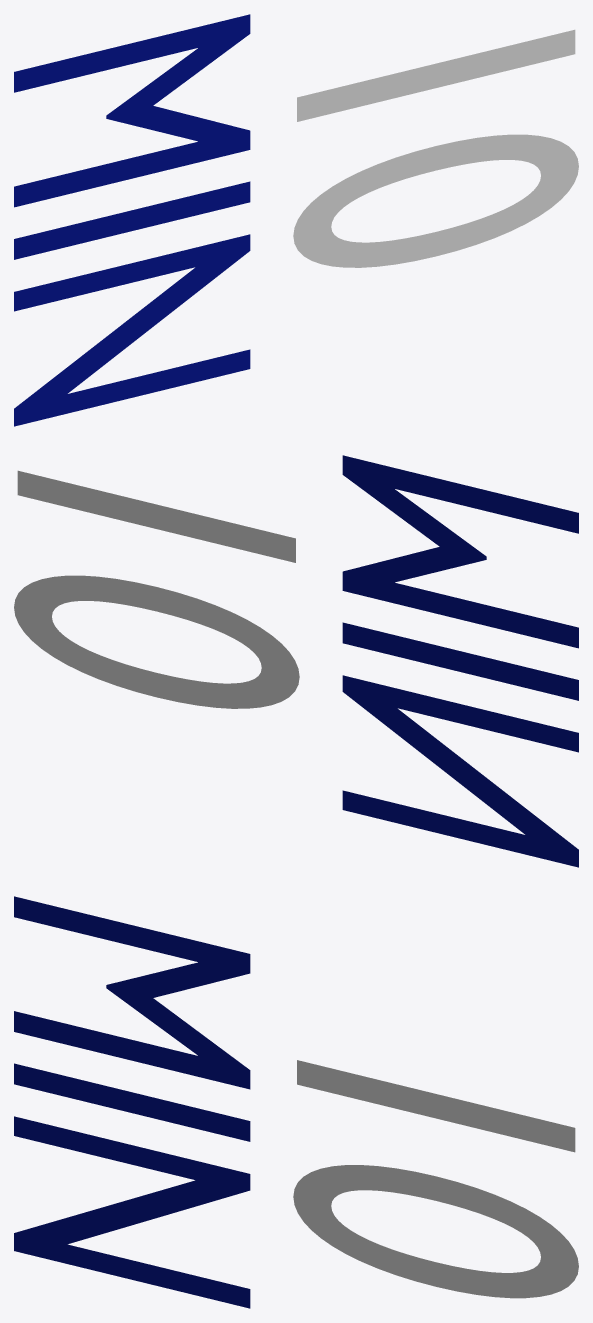
Rendered from 地面标识-限速下限10.gltf.
3 views of the same model, one above another, from view 1: azimuth 30°, elevation 25°; view 2: azimuth 150°, elevation 25°; view 3: azimuth 330°, elevation 25° (orthographic).
Visible parts, largest first — view 1: 文本.002, 文本; view 2: 文本.002, 文本; view 3: 文本.002, 文本.
Part boxes in pixels (x1=…): 文本.002: x1=14, y1=14, x2=250, y2=426; 文本: x1=293, y1=29, x2=578, y2=267; 文本.002: x1=342, y1=455, x2=578, y2=867; 文本: x1=14, y1=470, x2=299, y2=708; 文本.002: x1=14, y1=896, x2=250, y2=1308; 文本: x1=293, y1=1060, x2=578, y2=1298.
Size of the model in its own units: 3.4 by 2.04 by 8.08e-07.
